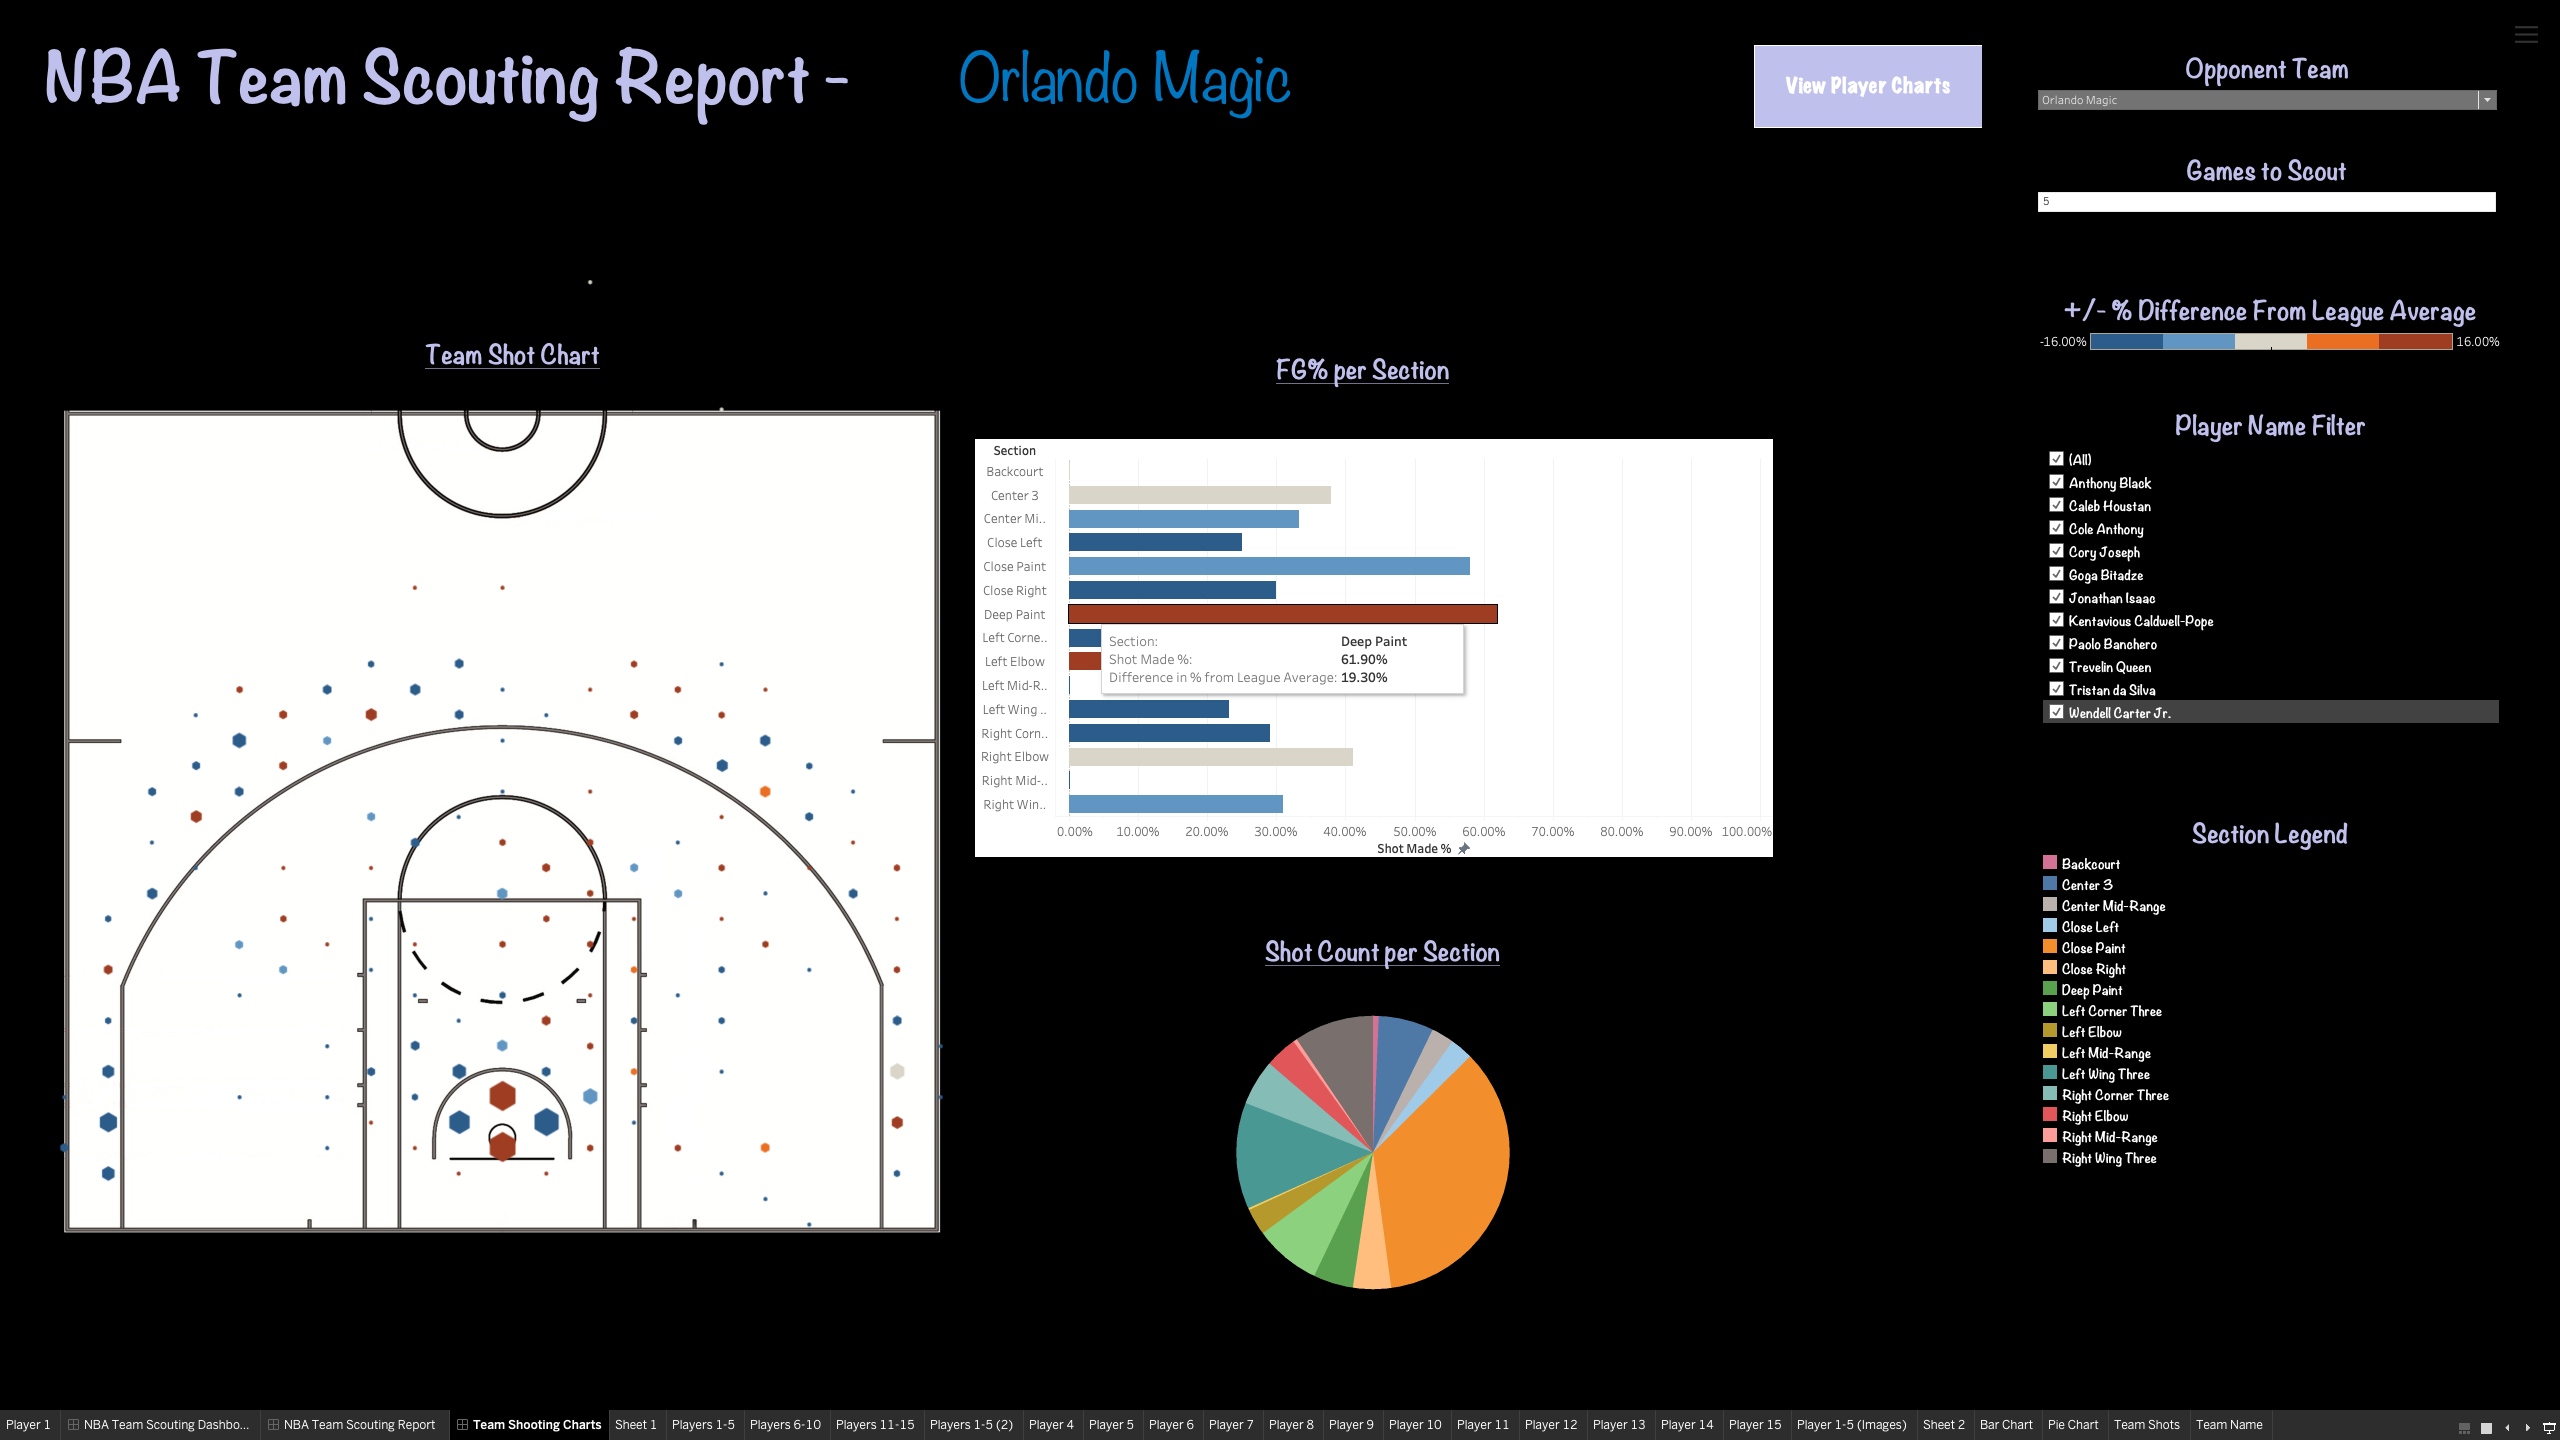

The dashboard page shown, as its layout file describes it:
{"tool":"tableau","page":{"name":"Team Shooting Charts","canvas":[1000,1000],"units":"permille","ordinal":2},"visuals":[{"type":"text","box":[17,8.1,442.1,87.3]},{"type":"legend","title":"Team Shots","param":"[federated.0q61uev1dddm1010vm4we0lrhyxr].[__tableau_internal_object_id__].[cnt:s","box":[5.2,8.6,989.5,156.3]},{"type":"dashboard-object","box":[981.6,15.6,10.3,17.8]},{"type":"worksheet","title":"Team Name","mark":"Automatic","box":[372.9,16.1,306.5,82.3]},{"type":"dashboard-object","box":[685,31.9,89.3,58.6]},{"type":"parameter","param":"[Parameters].[Parameter 3]","box":[794.9,33.4,181.6,55.6]},{"type":"parameter","param":"[Parameters].[Parameter 6]","box":[794.9,105.3,181.2,56.4]},{"type":"legend","title":"Team Shots","param":"[federated.0q61uev1dddm1010vm4we0lrhyxr].[usr:Calculation_5303973741077028912:qk","box":[5.2,164.9,989.5,69.6]},{"type":"worksheet","title":"Team Shots","mark":"Shape","rows":["Hexbin X (copy)_5303973738241863703"],"cols":["team_name","Calculation_5303973740446679076"],"box":[11.1,196.6,394,787.8]},{"type":"legend","title":"Bar Chart","param":"[federated.0q61uev1dddm1010vm4we0lrhyxr].[usr:Calculation_5303973741077028912:qk","box":[795.3,204.8,183.3,71.2]},{"type":"text","box":[160.3,218.1,80.3,63.8]},{"type":"text","box":[479.5,229.2,106.4,63.8]},{"type":"highlighter","title":"Team Shots","param":"[federated.0q61uev1dddm1010vm4we0lrhyxr].[attr:Calculation_3072158665309822980:n","box":[5.2,234.5,989.5,55.7]},{"type":"dashboard-object","box":[88.4,277.2,177.2,385.3]},{"type":"filter","title":"Team Shots","param":"[federated.0q61uev1dddm1010vm4we0lrhyxr].[none:player_name:nk]","box":[797.9,286.4,178.2,322]},{"type":"highlighter","title":"Team Shots","param":"[federated.0q61uev1dddm1010vm4we0lrhyxr].[usr:Calculation_3072158665589841926:nk","box":[5.2,290.2,989.5,55.7]},{"type":"worksheet","title":"Bar Chart","mark":"Bar","rows":["Calculation_5303973738308255770"],"cols":["Calculation_5303973738278883352"],"box":[380.8,311.6,312,296.7]},{"type":"text","box":[708.1,434,284.6,79.4]},{"type":"legend","title":"Pie Chart","param":"[federated.0q61uev1dddm1010vm4we0lrhyxr].[none:Calculation_5303973738308255770:n","box":[796.9,575.8,180.1,298.4]},{"type":"text","box":[487.2,641.7,106.4,63.8]}]}

Visuals, with their boxes on the dashboard's canvas, which has no fixed pixel size, in thousandths of its width and height (x1, y1, x2, y2). These are canvas units, not pixel positions in the 2560x1440 screenshot, which may show the page scaled, cropped or inside an application window:
text: region(17, 8, 459, 95)
"Team Shots" legend: region(5, 9, 995, 165)
dashboard-object: region(982, 16, 992, 33)
"Team Name" worksheet: region(373, 16, 679, 98)
dashboard-object: region(685, 32, 774, 90)
parameter: region(795, 33, 976, 89)
parameter: region(795, 105, 976, 162)
"Team Shots" legend: region(5, 165, 995, 234)
"Team Shots" worksheet (Shape marks): region(11, 197, 405, 984)
"Bar Chart" legend: region(795, 205, 979, 276)
text: region(160, 218, 241, 282)
text: region(480, 229, 586, 293)
"Team Shots" highlighter: region(5, 234, 995, 290)
dashboard-object: region(88, 277, 266, 662)
"Team Shots" filter: region(798, 286, 976, 608)
"Team Shots" highlighter: region(5, 290, 995, 346)
"Bar Chart" worksheet (Bar marks): region(381, 312, 693, 608)
text: region(708, 434, 993, 513)
"Pie Chart" legend: region(797, 576, 977, 874)
text: region(487, 642, 594, 706)
